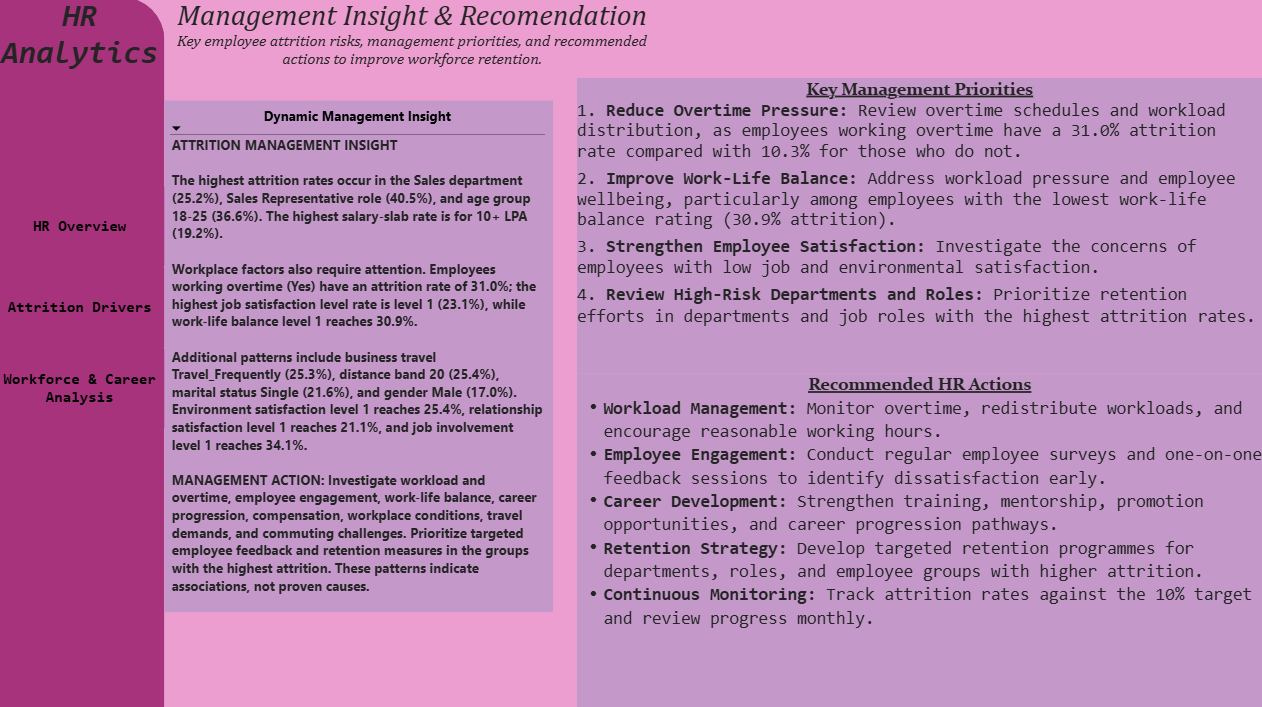

The page's visual inventory and layout, read from the dashboard file:
{"tool":"powerbi","page":{"name":"Management Insights & Recommendations","canvas":[3840,2160],"ordinal":3},"visuals":[{"type":"shape","box":[0,0,513.3,2157.7],"z":0},{"type":"tableEx","fields":{"Values":["496f786e-f4ca-42cd-b43c-a809dec.Dynamic Management Insight"]},"box":[513.3,313.4,1176.5,1549],"z":1000},{"type":"textbox","box":[0,0,513.3,245.3],"z":1001},{"type":"textbox","box":[513.3,0,1499.1,245.3],"z":1002},{"type":"textbox","box":[1762.5,245.3,2076,894.9],"z":1003},{"type":"textbox","box":[1762.5,1140.2,2076,1017.5],"z":1004},{"type":"actionButton","box":[0,572.4,513.3,245.3],"z":1005},{"type":"actionButton","box":[0,817.7,513.3,245.3],"z":1006},{"type":"actionButton","box":[0,1063,513.3,245.3],"z":1007}]}

Visuals, with their boxes in screenshot pixels (x1, y1, x2, y2), scaled from the page's 3840x2160 canvas onto the 1262x707 screenshot:
shape: {"x1": 0, "y1": 0, "x2": 169, "y2": 706}
tableEx - 496f786e-f4ca-42cd-b43c-a809dec.Dynamic Management Insight: {"x1": 169, "y1": 103, "x2": 555, "y2": 610}
textbox: {"x1": 0, "y1": 0, "x2": 169, "y2": 80}
textbox: {"x1": 169, "y1": 0, "x2": 661, "y2": 80}
textbox: {"x1": 579, "y1": 80, "x2": 1261, "y2": 373}
textbox: {"x1": 579, "y1": 373, "x2": 1261, "y2": 706}
actionButton: {"x1": 0, "y1": 187, "x2": 169, "y2": 268}
actionButton: {"x1": 0, "y1": 268, "x2": 169, "y2": 348}
actionButton: {"x1": 0, "y1": 348, "x2": 169, "y2": 428}
